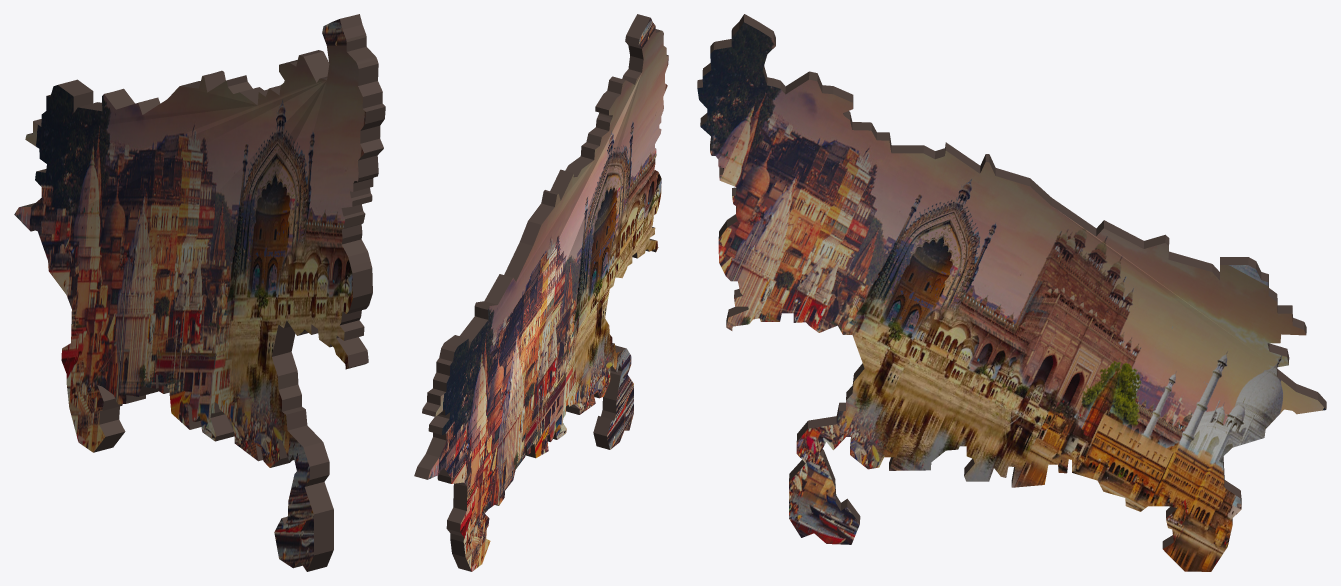
File: Uttar Pradesh.glb
The picture shows the model from 3 angles, left to right: view 1: azimuth 30°, elevation 25°; view 2: azimuth 150°, elevation 25°; view 3: azimuth 270°, elevation 25°; orthographic projection. The views are drawn at different scales.
Parts seen in each view (by area): view 1: Object_18; view 2: Object_18; view 3: Object_18.
Part boxes in pixels (x1,y1,x2,y2): Object_18: (14, 14, 385, 571); Object_18: (414, 14, 668, 571); Object_18: (697, 14, 1326, 571).
Bounding box in the file's own units: 0.0394 × 1.05 × 1.09.
Materials: 1 (1 with a texture image).
